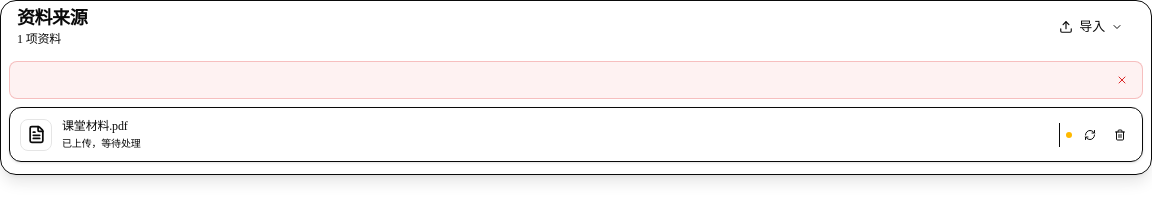
Test: starts a missing ingestion and renders its queued state
Click the button named "处理 课堂材料.pdf".
click(1090, 134)  # box [1078,122,1102,146]
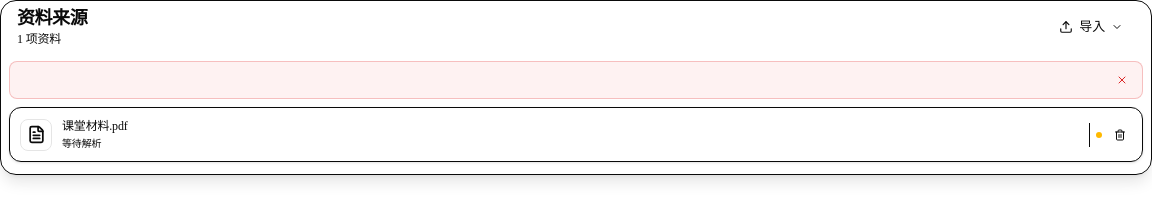
Expected: the text "等待解析" is shown, [62,138,101,149]
